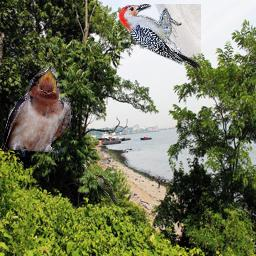Cuckoo: (95, 174, 119, 205)
Swallow: (2, 66, 71, 157)
Woodpecker: (119, 4, 201, 71)
